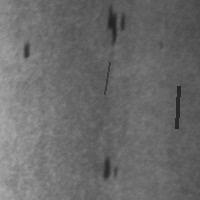inclusion: (104, 3, 127, 47), (99, 153, 121, 183), (102, 60, 111, 96), (174, 84, 180, 130), (20, 39, 32, 61)
